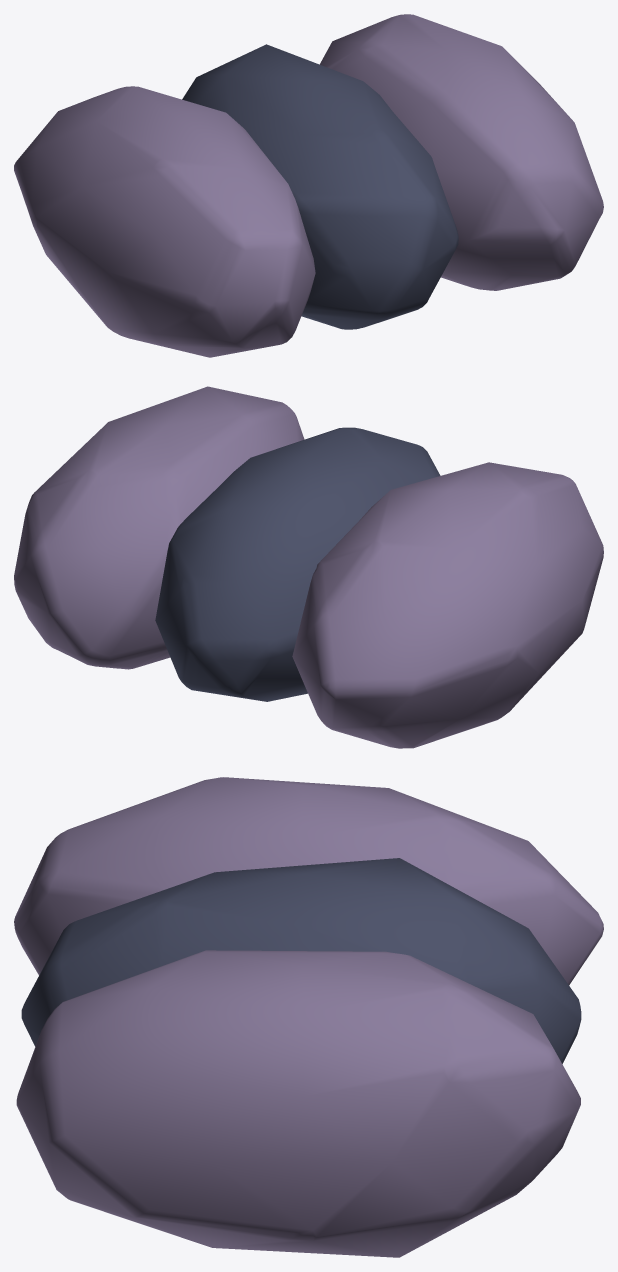
File: inferno_edge.glb
The picture shows the model from 3 angles, top to bottom: view 1: azimuth 30°, elevation 25°; view 2: azimuth 150°, elevation 25°; view 3: azimuth 270°, elevation 25°; orthographic projection. The views are drawn at different scales.
Parts seen in each view (by area): view 1: Batched V2 inferno stone, Batched V2 inferno dark; view 2: Batched V2 inferno stone, Batched V2 inferno dark; view 3: Batched V2 inferno stone, Batched V2 inferno dark.
Part boxes in pixels (x1=…): Batched V2 inferno stone: x1=14, y1=14, x2=603, y2=357; Batched V2 inferno dark: x1=182, y1=44, x2=458, y2=329; Batched V2 inferno stone: x1=14, y1=386, x2=603, y2=748; Batched V2 inferno dark: x1=155, y1=427, x2=440, y2=701; Batched V2 inferno stone: x1=14, y1=777, x2=603, y2=1257; Batched V2 inferno dark: x1=21, y1=858, x2=581, y2=1063.
Bounding box in the file's own units: 2.23 × 1 × 1.85.
